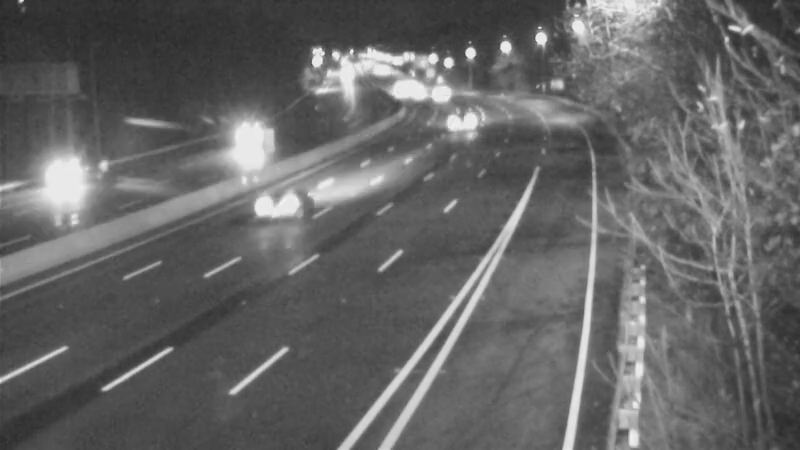vehicle: (244, 165, 324, 245), (24, 137, 104, 217), (413, 70, 463, 120), (439, 93, 489, 143), (215, 110, 265, 160)
